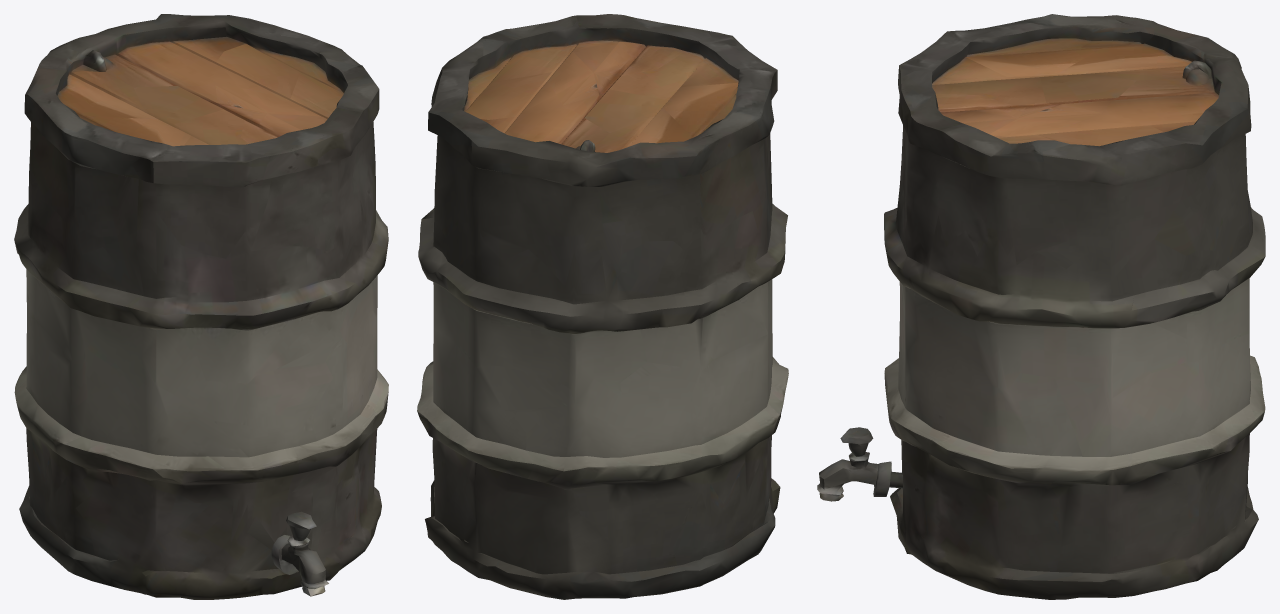
File: barrel_idle.glb
3 renders of one model, left to right at view 1: azimuth 30°, elevation 25°; view 2: azimuth 150°, elevation 25°; view 3: azimuth 270°, elevation 25°, orthographic.
Visible parts, largest first — view 1: tripo_node_70fd62e2-6832-4f09-979b-0281d062f603; view 2: tripo_node_70fd62e2-6832-4f09-979b-0281d062f603; view 3: tripo_node_70fd62e2-6832-4f09-979b-0281d062f603.
Part boxes in pixels (x1,y1,x2,y2): tripo_node_70fd62e2-6832-4f09-979b-0281d062f603: (14,14,388,599); tripo_node_70fd62e2-6832-4f09-979b-0281d062f603: (417,14,788,599); tripo_node_70fd62e2-6832-4f09-979b-0281d062f603: (817,14,1265,599).
Bounding box in the file's own units: 0.6762 × 0.9 × 0.8131.
1 material, 1 textured.
